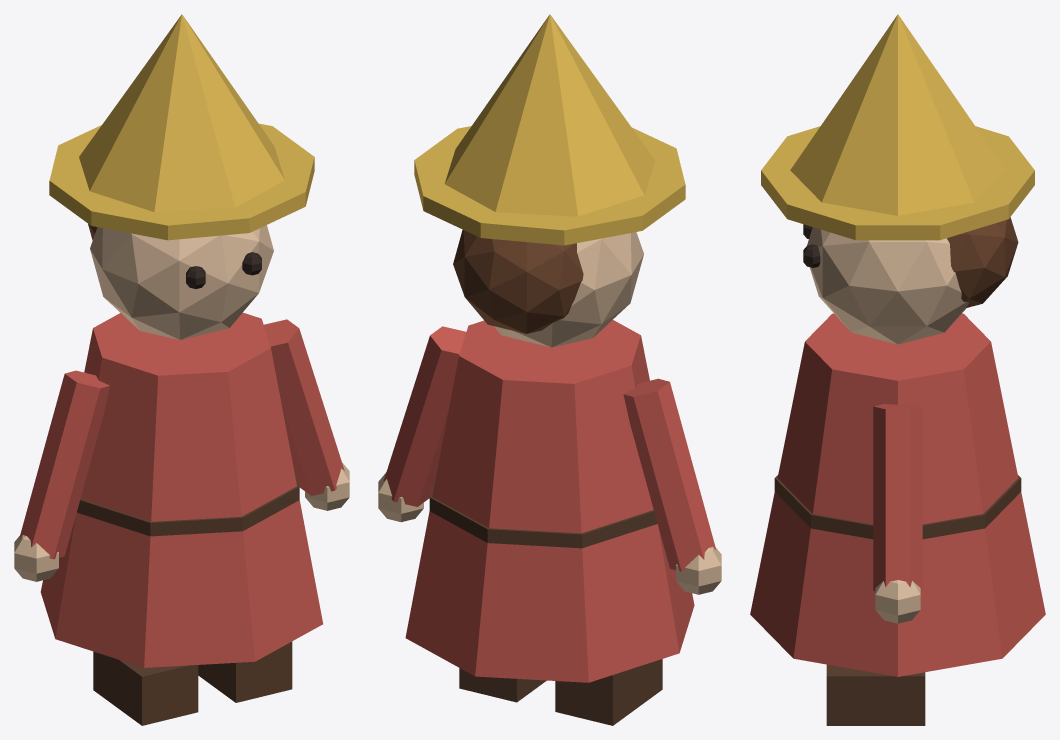
Rendered from villager_1.glb.
3 renders of one model, left to right at view 1: azimuth 30°, elevation 25°; view 2: azimuth 150°, elevation 25°; view 3: azimuth 270°, elevation 25°, orthographic. The views are drawn at different scales.
Parts seen in each view (by area): view 1: villager_1; view 2: villager_1; view 3: villager_1.
Part boxes in pixels (bbox=[...]): villager_1: bbox=[14, 14, 349, 725]; villager_1: bbox=[378, 14, 721, 725]; villager_1: bbox=[750, 14, 1045, 725].
Size of the model in its own units: 0.6078 by 1.16 by 0.459.
